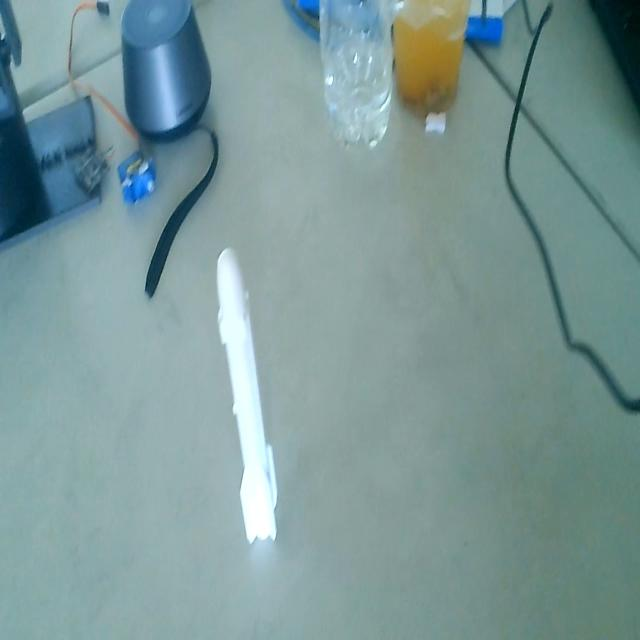Rocket: (214, 245, 282, 553)
